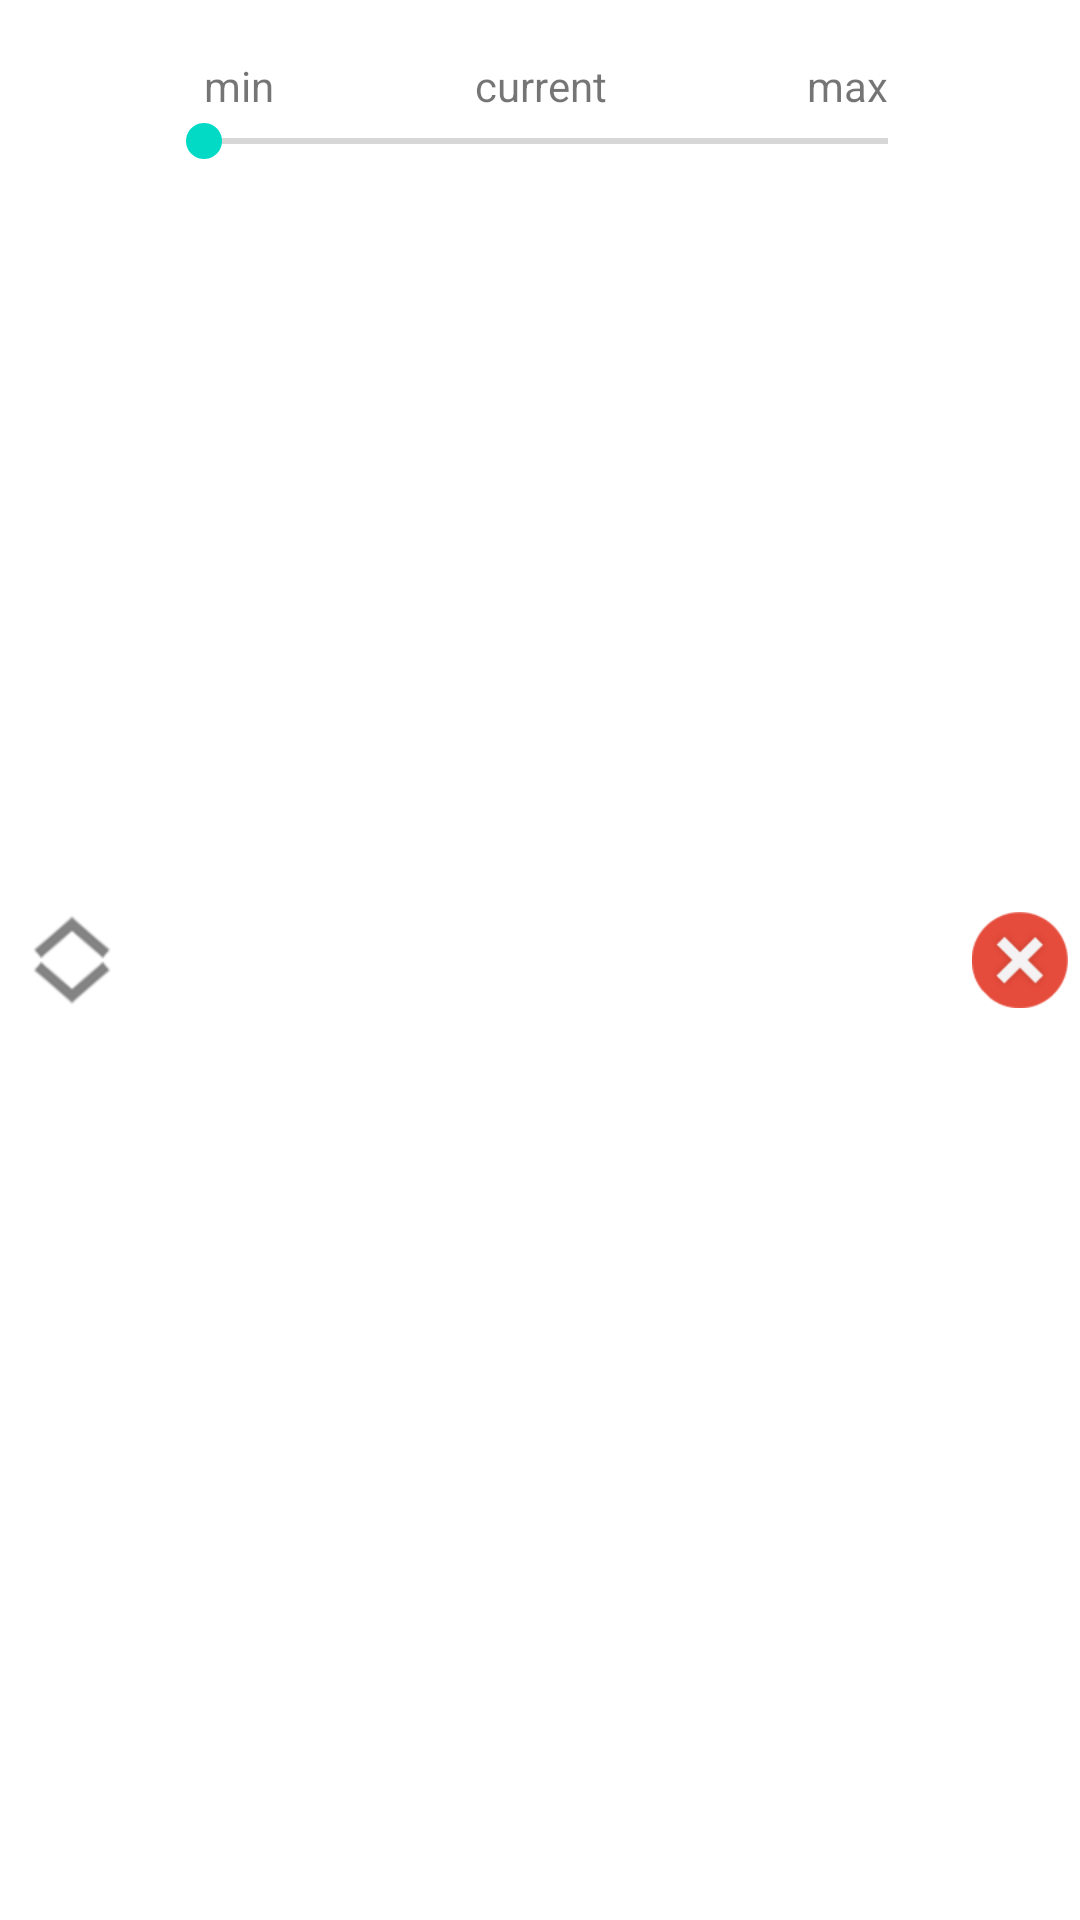

Icons on this 1080×1920 Android screen, each with its box as (x1, y1, x2, y2):
drag: (34, 917, 110, 1003)
remove filter: (972, 912, 1068, 1008)
